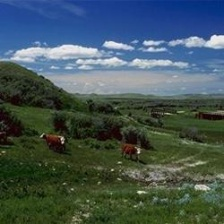neutral: (2, 1, 223, 224)
